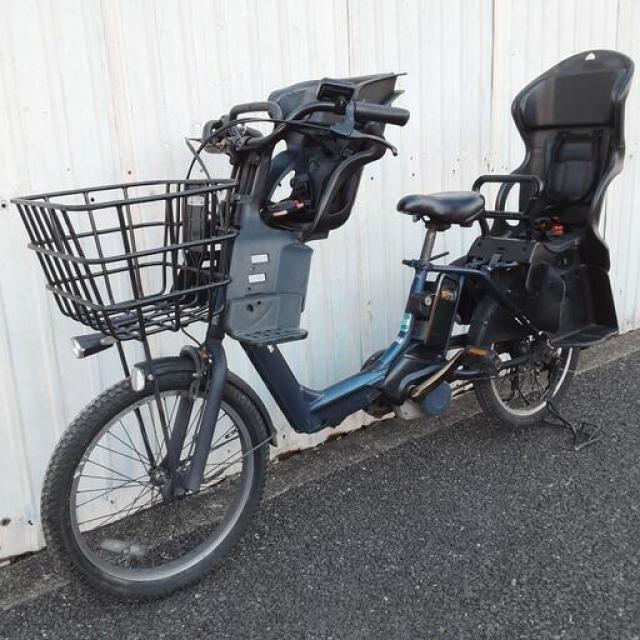basket: (9, 178, 238, 344)
battery: (413, 274, 460, 367)
childseat: (196, 68, 405, 337), (472, 48, 636, 347)
